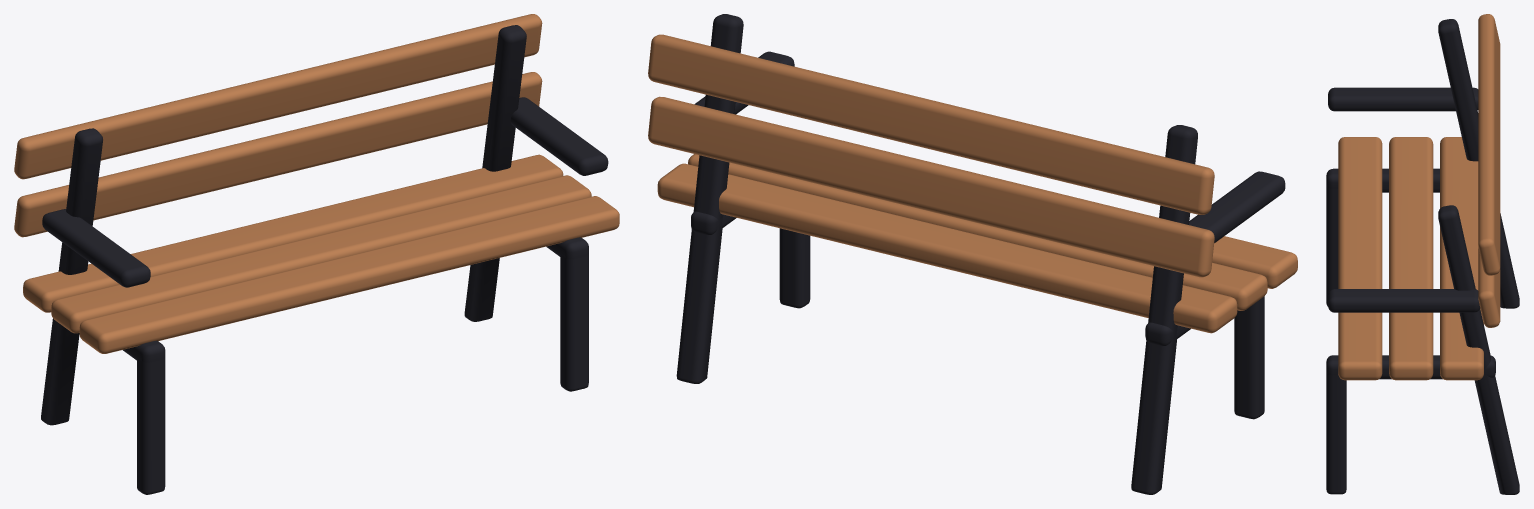
File: bench.glb
3 views of the same model, side by side, from view 1: azimuth 30°, elevation 25°; view 2: azimuth 150°, elevation 25°; view 3: azimuth 270°, elevation 25° (orthographic). The views are drawn at different scales.
Visible parts, largest first — view 1: bench; view 2: bench; view 3: bench.
Boxes of the visible parts, x1=… form: bench: x1=14, y1=14, x2=619, y2=494; bench: x1=648, y1=14, x2=1297, y2=494; bench: x1=1326, y1=14, x2=1519, y2=494.
Size of the model in its own units: 1.6 by 0.9175 by 0.5698.
1 material, 1 textured.
